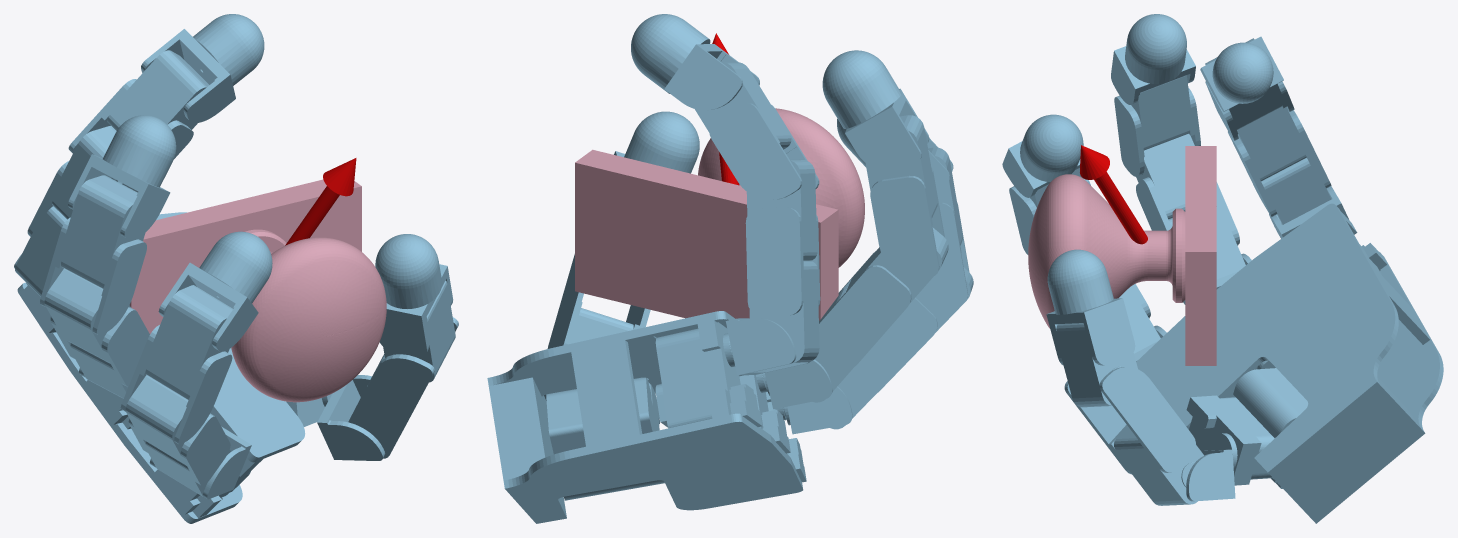
3 views of the same model, side by side, from view 1: azimuth 30°, elevation 25°; view 2: azimuth 150°, elevation 25°; view 3: azimuth 270°, elevation 25° (orthographic). The views are drawn at different scales.
Parts seen in each view (by area): view 1: world, door_knob.stl; view 2: world, door_knob.stl; view 3: world, door_knob.stl.
Part boxes in pixels (left/top/right/bottom): world: left=14, top=14, right=458, bottom=523; door_knob.stl: left=129, top=179, right=386, bottom=402; world: left=487, top=14, right=973, bottom=523; door_knob.stl: left=575, top=108, right=864, bottom=320; world: left=1002, top=14, right=1443, bottom=523; door_knob.stl: left=1028, top=146, right=1216, bottom=365.
Size of the model in its own units: 0.1635 by 0.1954 by 0.1755.
